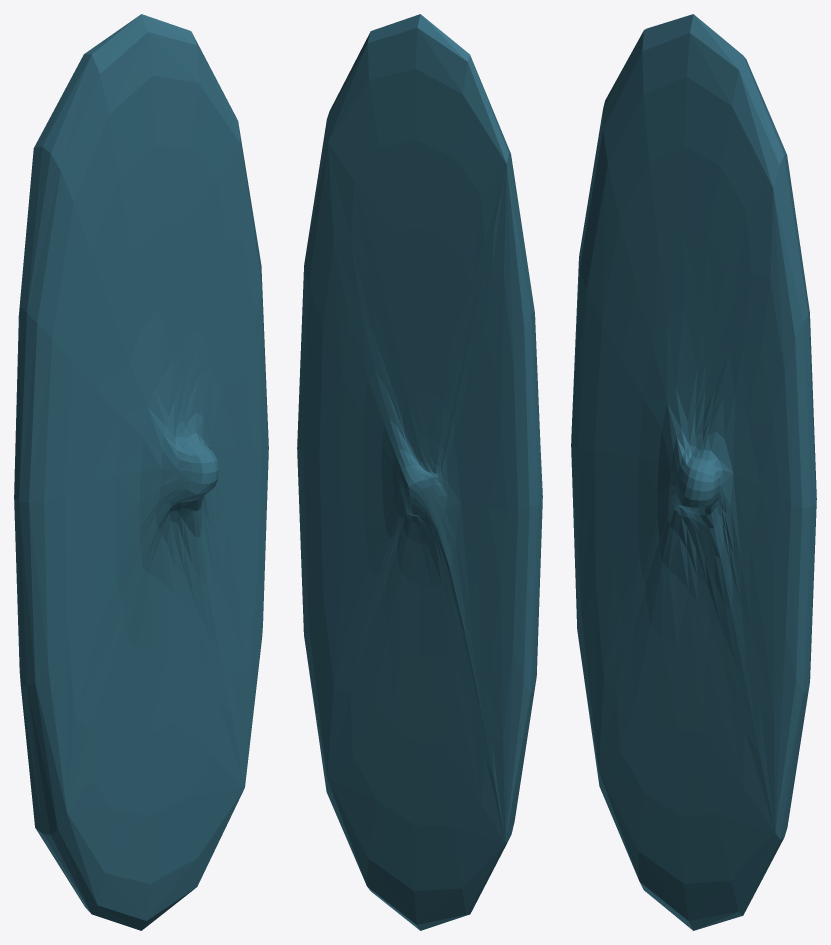
The picture shows the model from 3 angles, left to right: view 1: azimuth 30°, elevation 25°; view 2: azimuth 150°, elevation 25°; view 3: azimuth 330°, elevation 25°; orthographic projection.
Visible parts, largest first — view 1: 552_Cube.2227; view 2: 552_Cube.2227; view 3: 552_Cube.2227.
Part boxes in pixels (x1,y1,x2,y2): 552_Cube.2227: (14,14,268,930); 552_Cube.2227: (297,14,542,930); 552_Cube.2227: (571,14,816,930).
Bounding box in the file's own units: 3.08 × 10.99 × 1.27.
